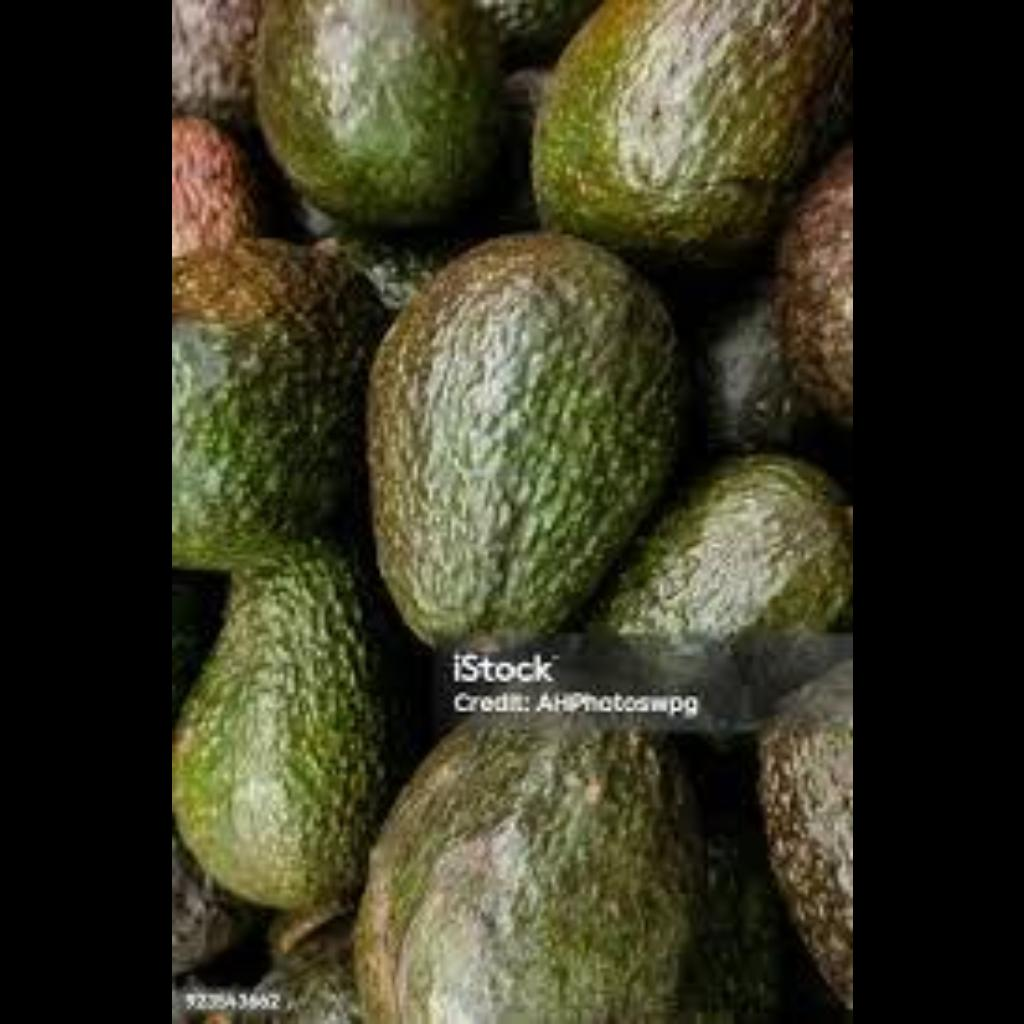antracnosis_fruto: (399, 688, 845, 997), (319, 237, 680, 580), (535, 8, 852, 302), (182, 4, 472, 235)
